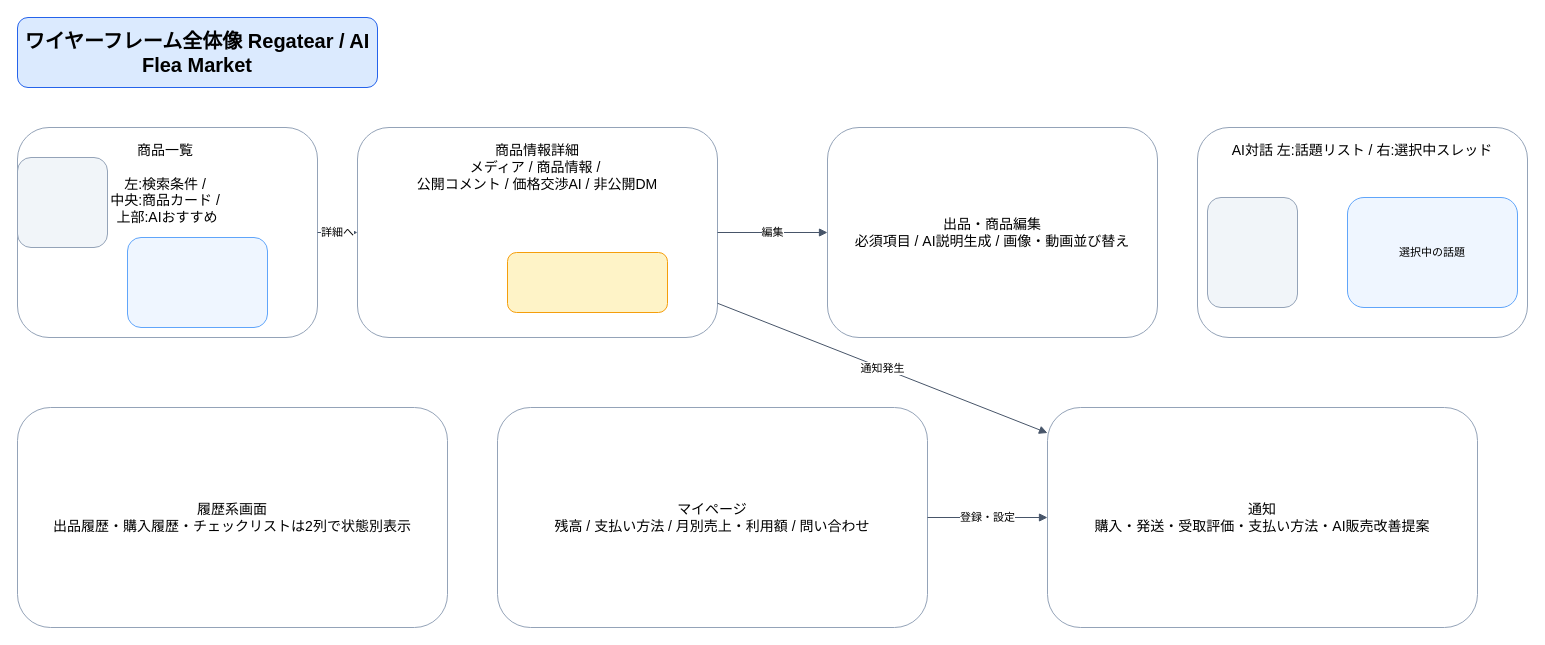
Image size: 1545x645. Some labels were removed from this diagram. Here are the shapes that lost their labels. From the top down, the centre of each, then its label:
At [62,202]: "検索条件 カテゴリ/価格/タグ".
At [1252,252]: "話題リスト".
At [197,282]: "商品カード一覧".
At [587,282]: "価格交渉 アシスタント".
